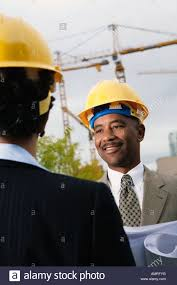Person_wearing_helmet: (74, 74, 147, 131)
